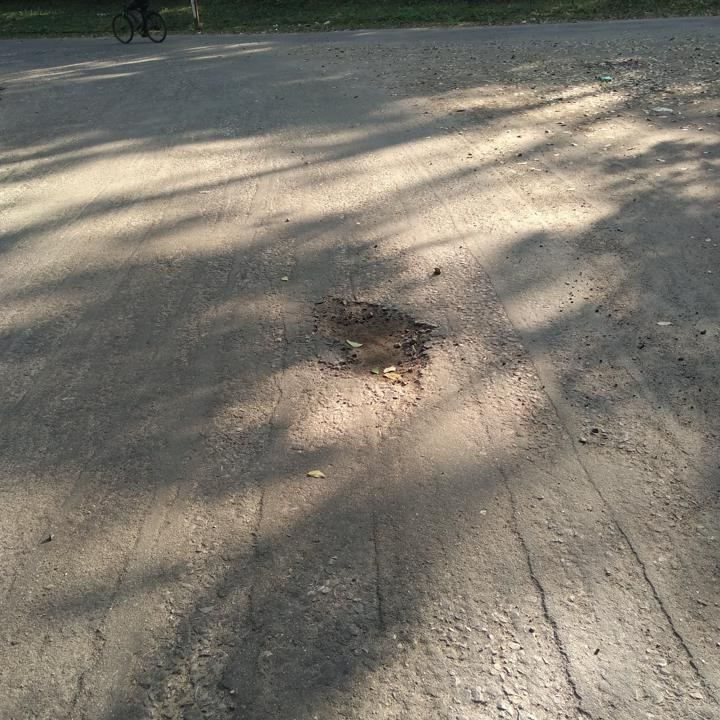pothole: (305, 293, 445, 397)
